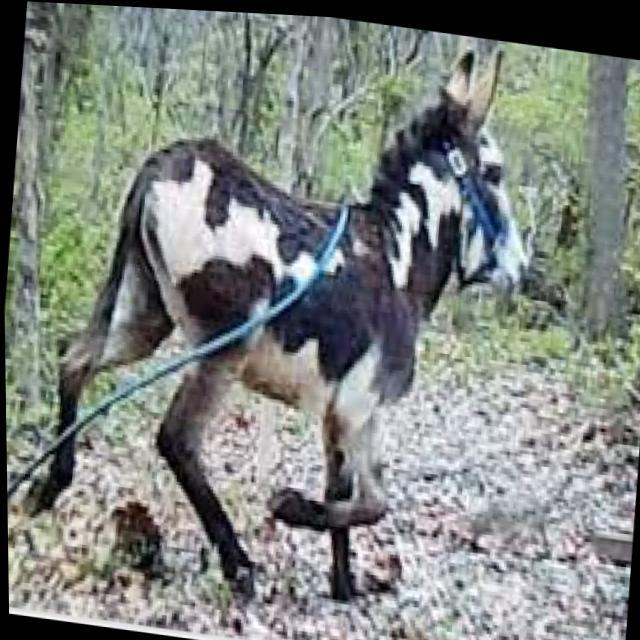Donkey: (7, 1, 553, 630)
